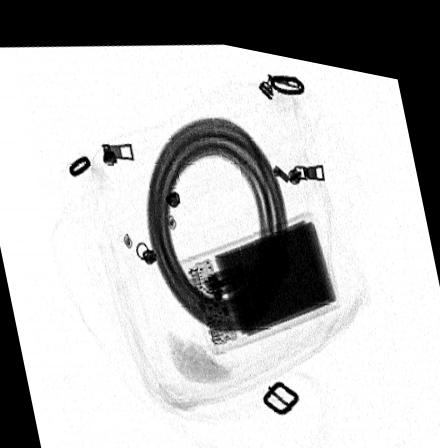Powerbank: (179, 198, 341, 345)
